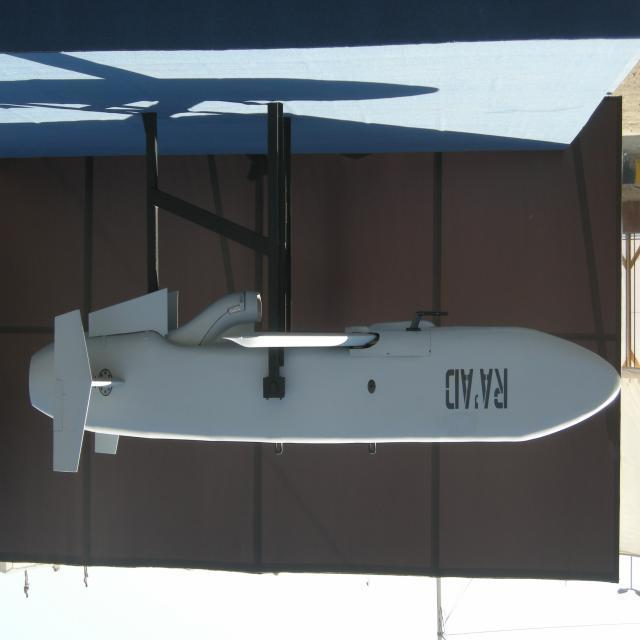Missile: (23, 295, 634, 467)
